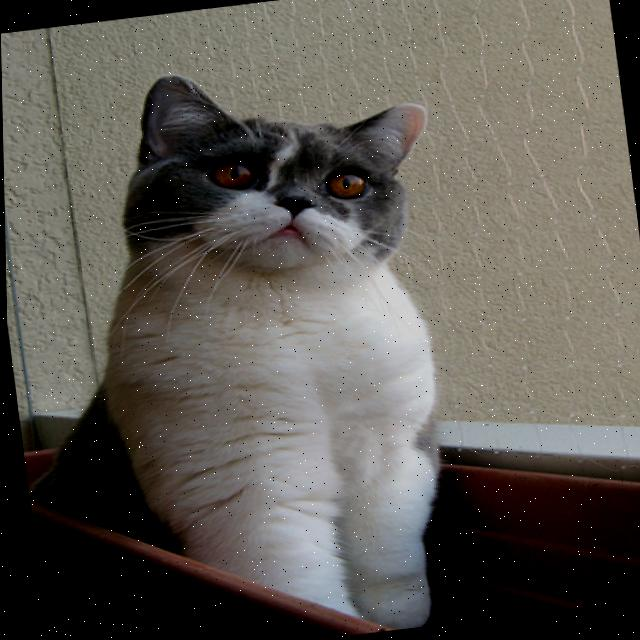British Shorthair: (1, 37, 495, 640)
